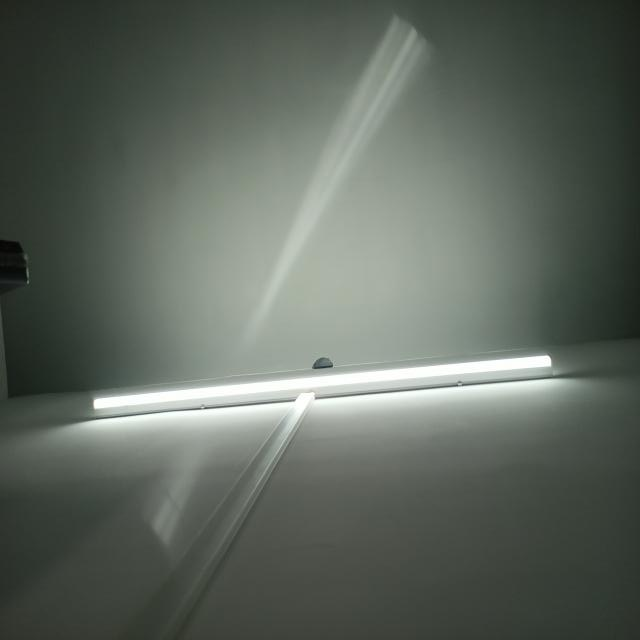fluorescent tube: (84, 339, 557, 425)
